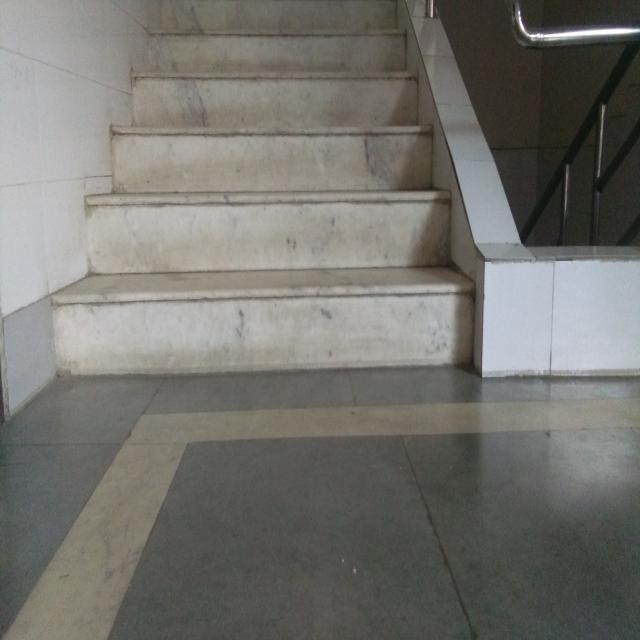stairs: (51, 1, 482, 375)
